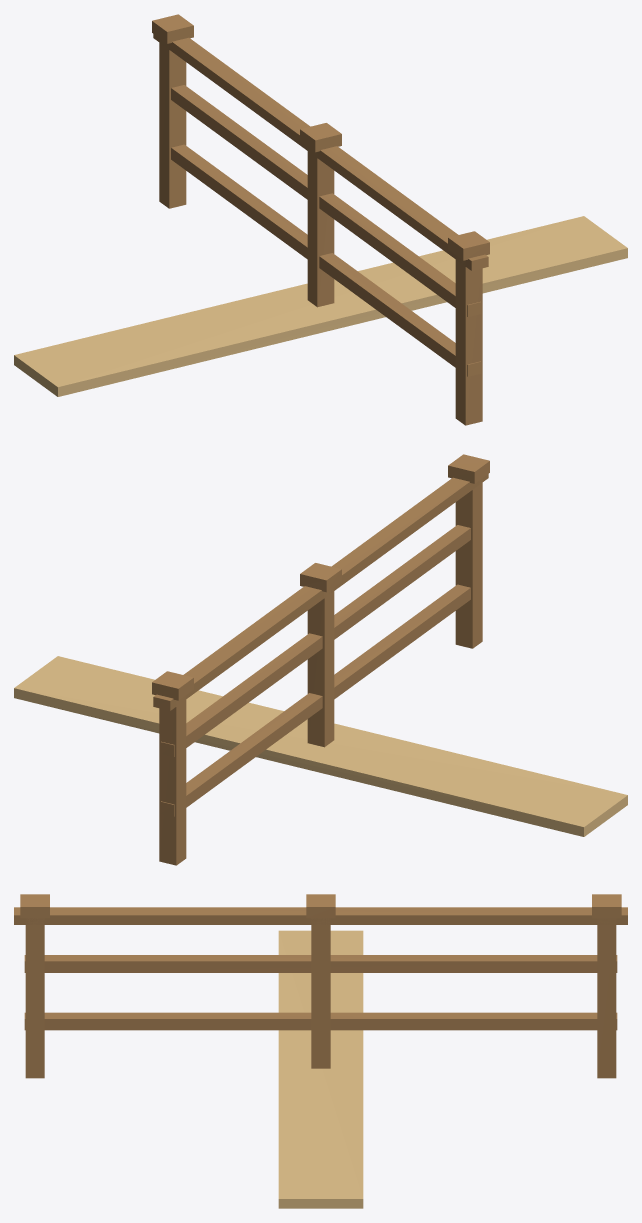
Rendered from Wooden-fences.glb.
The picture shows the model from 3 angles, top to bottom: view 1: azimuth 30°, elevation 25°; view 2: azimuth 150°, elevation 25°; view 3: azimuth 270°, elevation 25°; orthographic projection. The views are drawn at different scales.
Parts seen in each view (by area): view 1: wooden-fence-static-fence-earth, wooden-fence-static-fence-timber, wooden-fence-static-fence-teal, wooden-fence-static-fence-cap; view 2: wooden-fence-static-fence-earth, wooden-fence-static-fence-timber, wooden-fence-static-fence-teal, wooden-fence-static-fence-cap; view 3: wooden-fence-static-fence-timber, wooden-fence-static-fence-earth, wooden-fence-static-fence-teal, wooden-fence-static-fence-cap.
Boxes of the visible parts, x1,y1,x2,y2 form: wooden-fence-static-fence-earth: (14,216,627,396); wooden-fence-static-fence-timber: (159,38,482,425); wooden-fence-static-fence-teal: (153,34,488,270); wooden-fence-static-fence-cap: (152,14,489,260); wooden-fence-static-fence-earth: (14,656,627,836); wooden-fence-static-fence-timber: (159,478,482,865); wooden-fence-static-fence-teal: (153,474,488,710); wooden-fence-static-fence-cap: (152,454,489,700); wooden-fence-static-fence-timber: (24,918,617,1078); wooden-fence-static-fence-earth: (278,930,363,1208); wooden-fence-static-fence-teal: (14,907,627,924); wooden-fence-static-fence-cap: (20,894,621,918).
Size of the model in its own units: 6 by 1.81 by 5.8.
